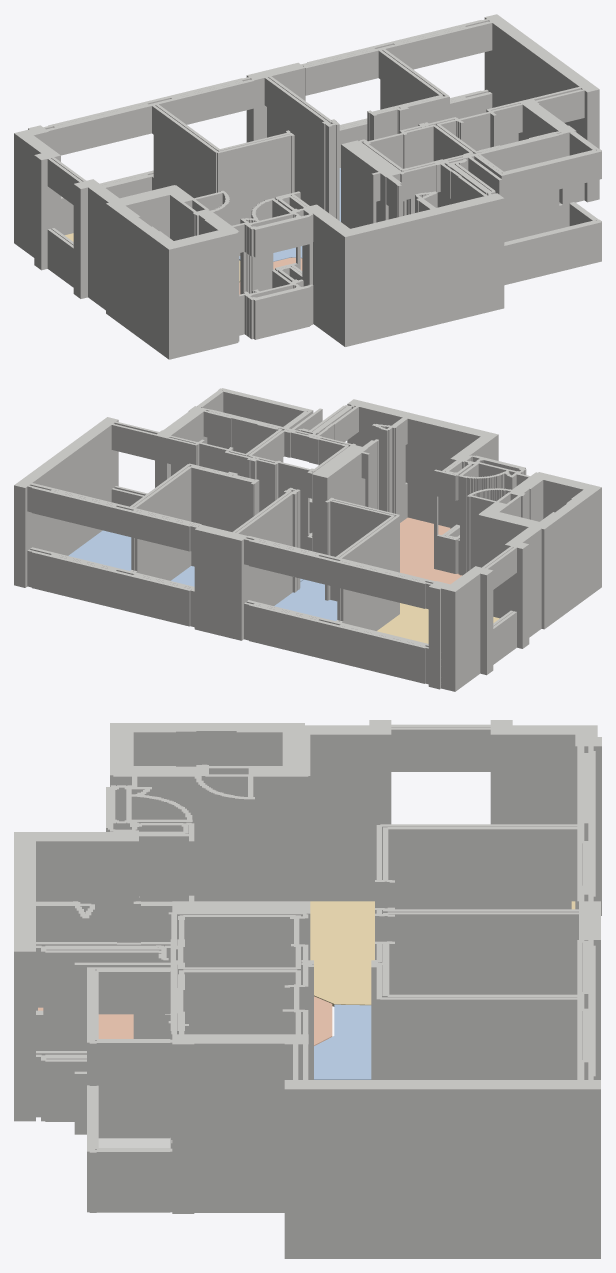
The picture shows the model from 3 angles, top to bottom: view 1: azimuth 30°, elevation 25°; view 2: azimuth 150°, elevation 25°; view 3: azimuth 270°, elevation 25°; orthographic projection. The views are drawn at different scales.
Visible parts, largest first — view 1: walls; view 2: walls, room:kitchen:4, room:bedroom:3, room:bedroom:1, room:living:0; view 3: walls, room:living:0, room:bedroom:1, room:kitchen:4, room:ledge:5.
Part boxes in pixels (x1=…): walls: x1=14, y1=14, x2=601, y2=359; walls: x1=14, y1=388, x2=601, y2=691; room:kitchen:4: x1=400, y1=517, x2=462, y2=584; room:bedroom:3: x1=68, y1=530, x2=131, y2=570; room:bedroom:1: x1=274, y1=579, x2=337, y2=620; room:living:0: x1=377, y1=603, x2=499, y2=643; walls: x1=14, y1=720, x2=601, y2=1258; room:living:0: x1=310, y1=901, x2=575, y2=1006; room:bedroom:1: x1=314, y1=1004, x2=371, y2=1079; room:kitchen:4: x1=38, y1=996, x2=332, y2=1045; room:ledge:5: x1=98, y1=1138, x2=170, y2=1148.
Size of the model in its own units: 13.09 by 2.8 by 8.8.
